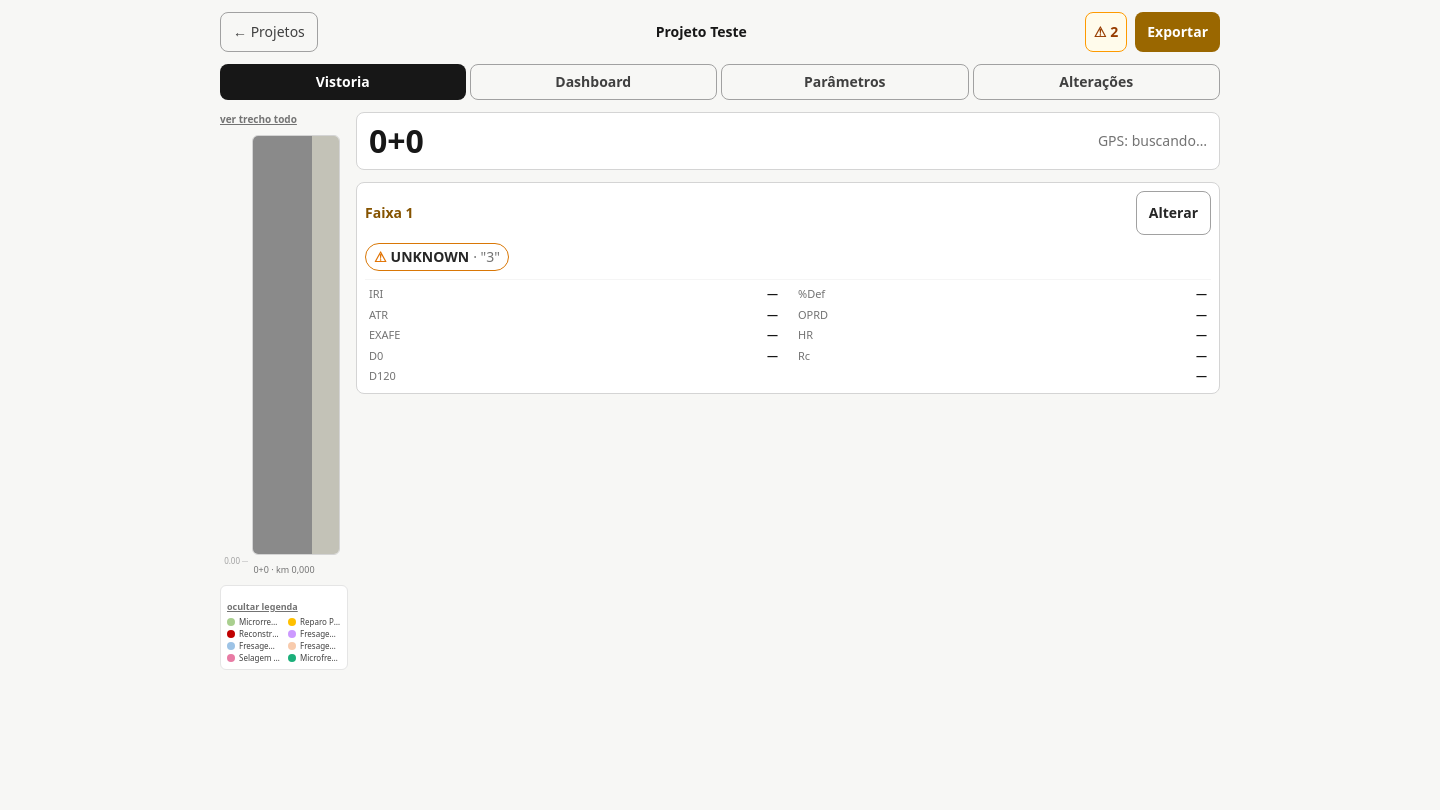
VistoriaScreen — erros cadastrais (solução UNKNOWN) › mostra o botão com a contagem e abre a lista com o texto da célula
This screenshot has width=1440, height=810.
Expected: the button "Alterar" is shown, [1136,191,1211,235]
Expected: the picture named "Erro cadastral" is shown, [374,247,387,267]
Click the button named "Erros cadastrais: 2": (1106, 32) [1085,12,1127,52]
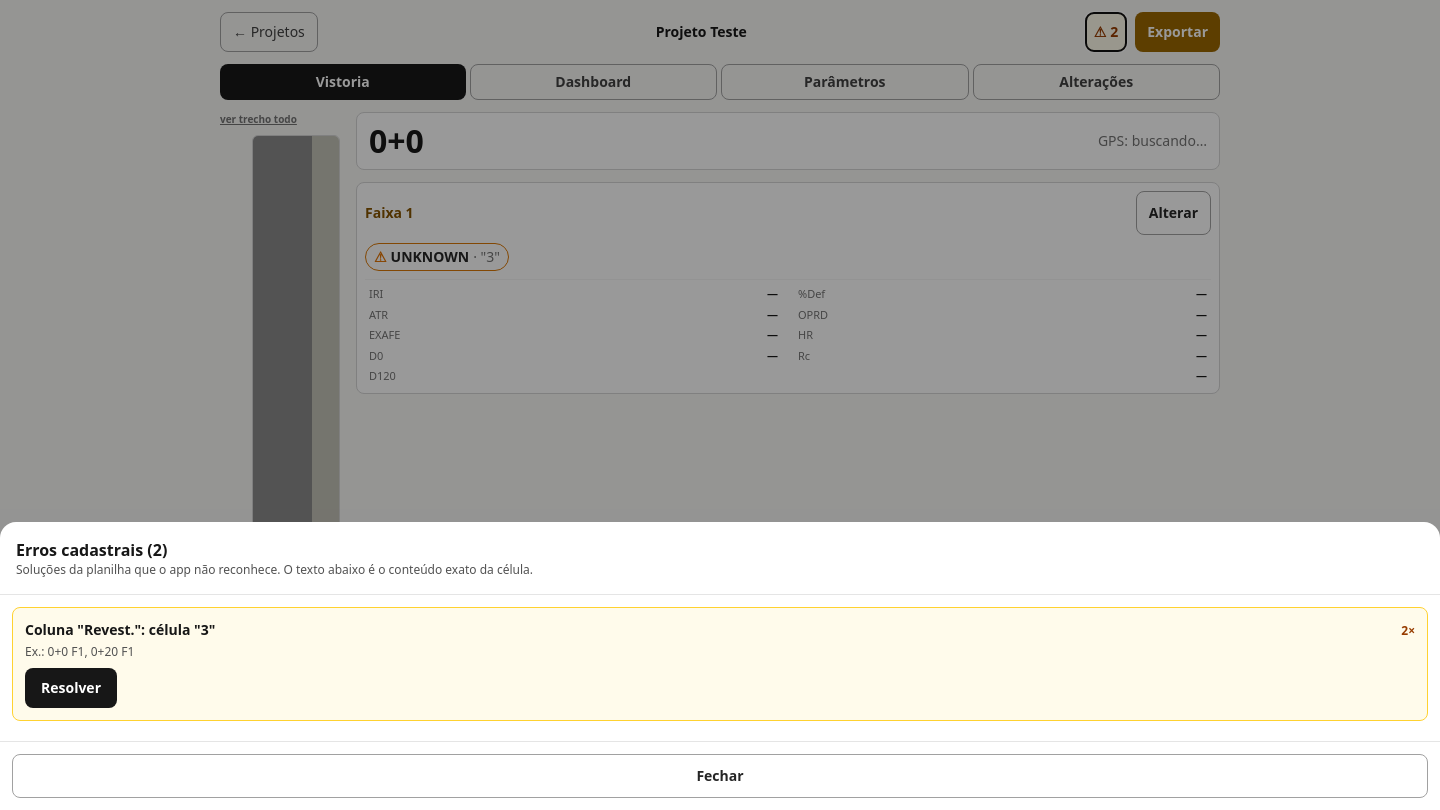
Expected: the heading "Erros cadastrais (2)" is shown, [16,539,167,561]
Expected: the text "Coluna \"Revest.\": célula \"3\"" is shown, [25,620,215,640]
